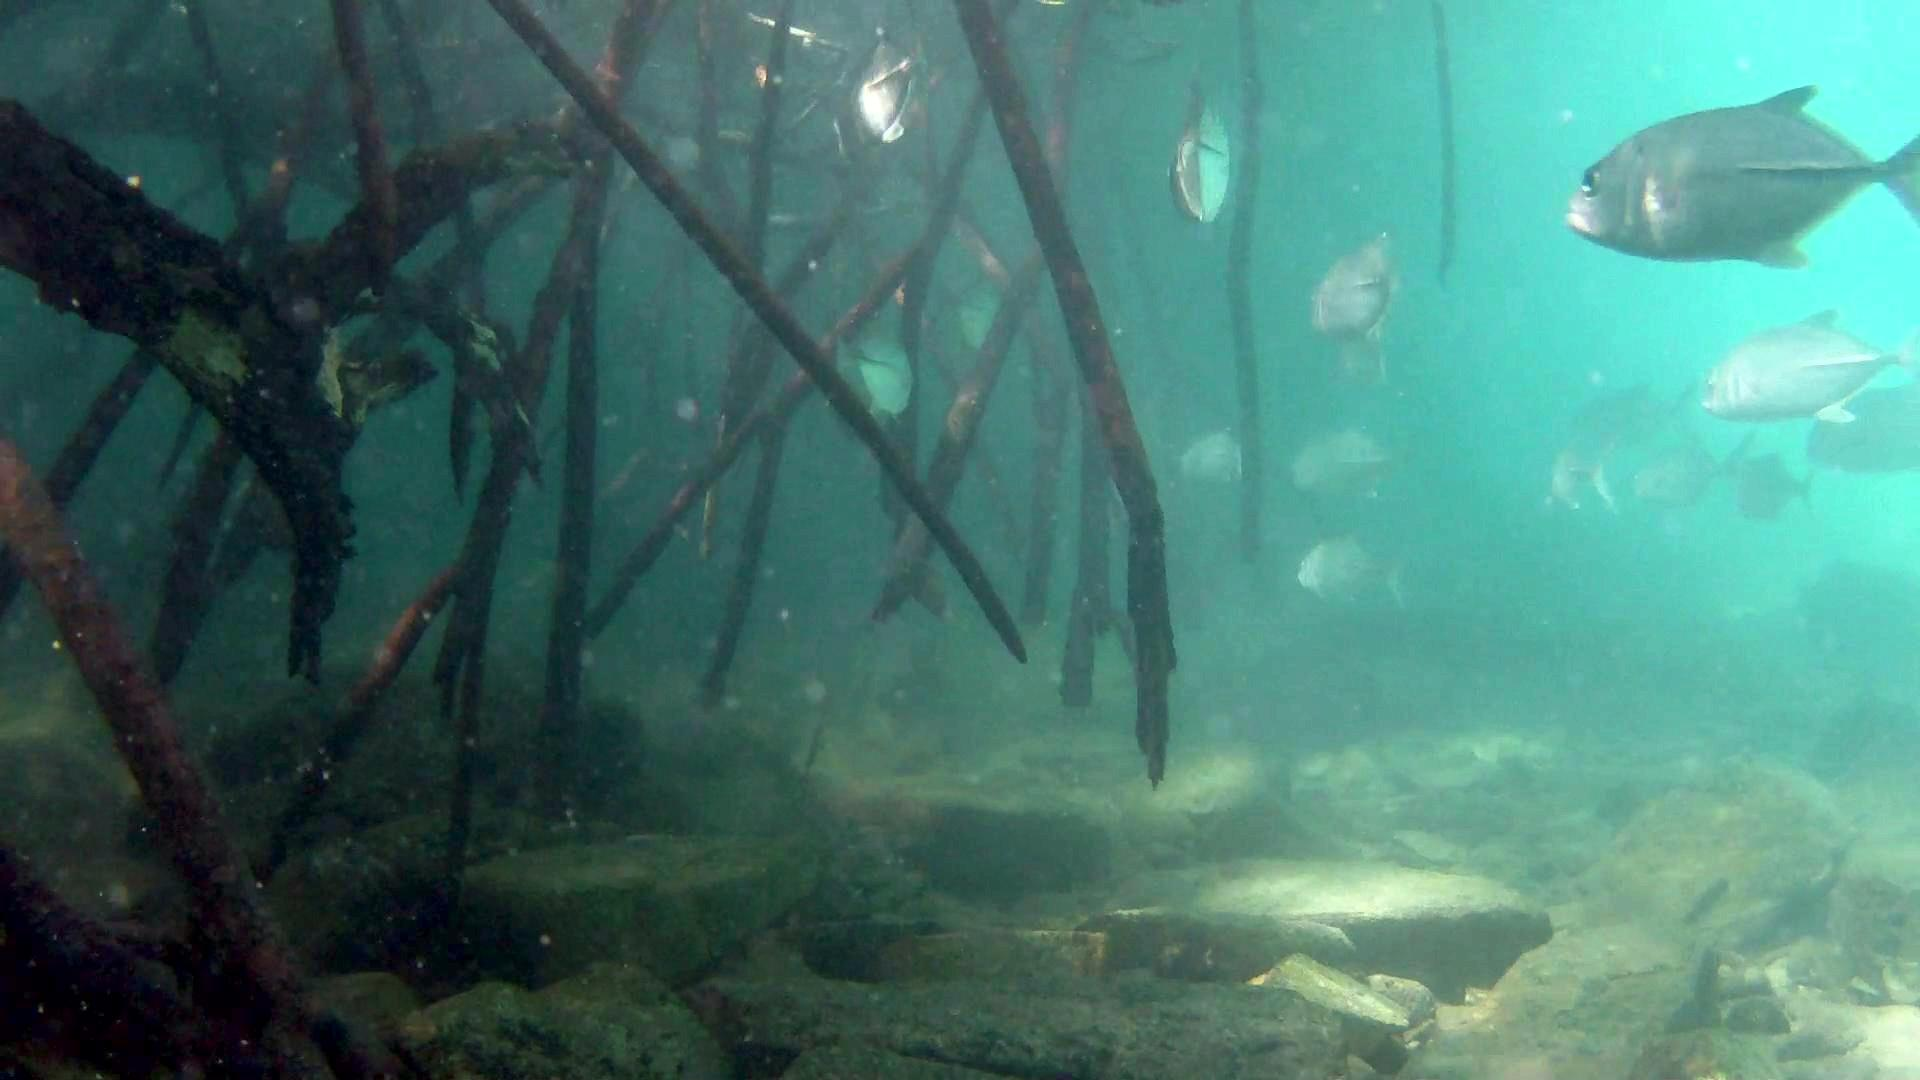caranx: (1557, 70, 1920, 276), (1691, 301, 1920, 431)
